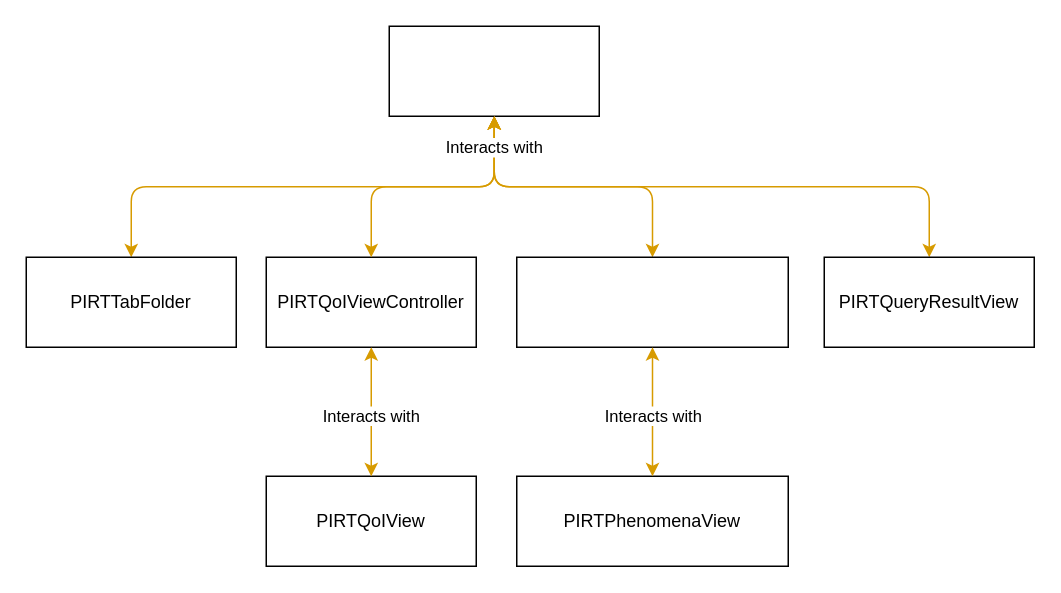
Image size: 1061x593. Some labels were removed from this diagram. The shapes that lost their labels are listed below. From the top down, each one's centre as x and y in pixels, then its label:
At point 493,70: "PIRTViewManager".
At point 651,301: "PIRTPhenomenaViewController".
